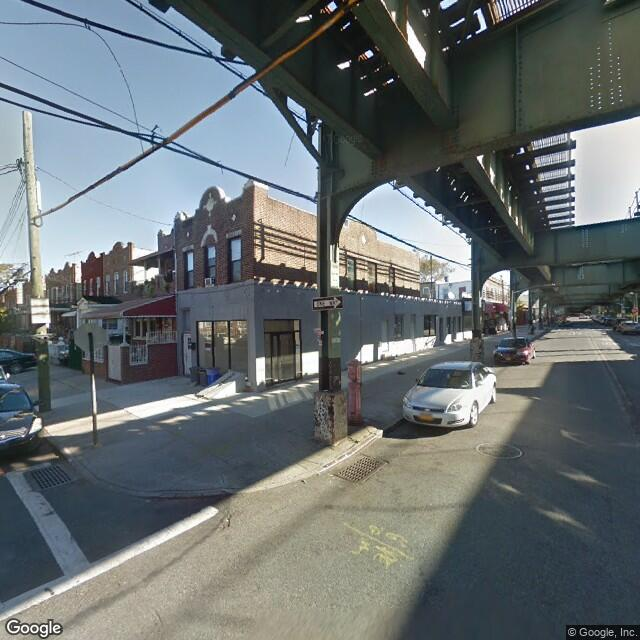litter: (397, 371, 406, 374), (179, 425, 183, 429)
